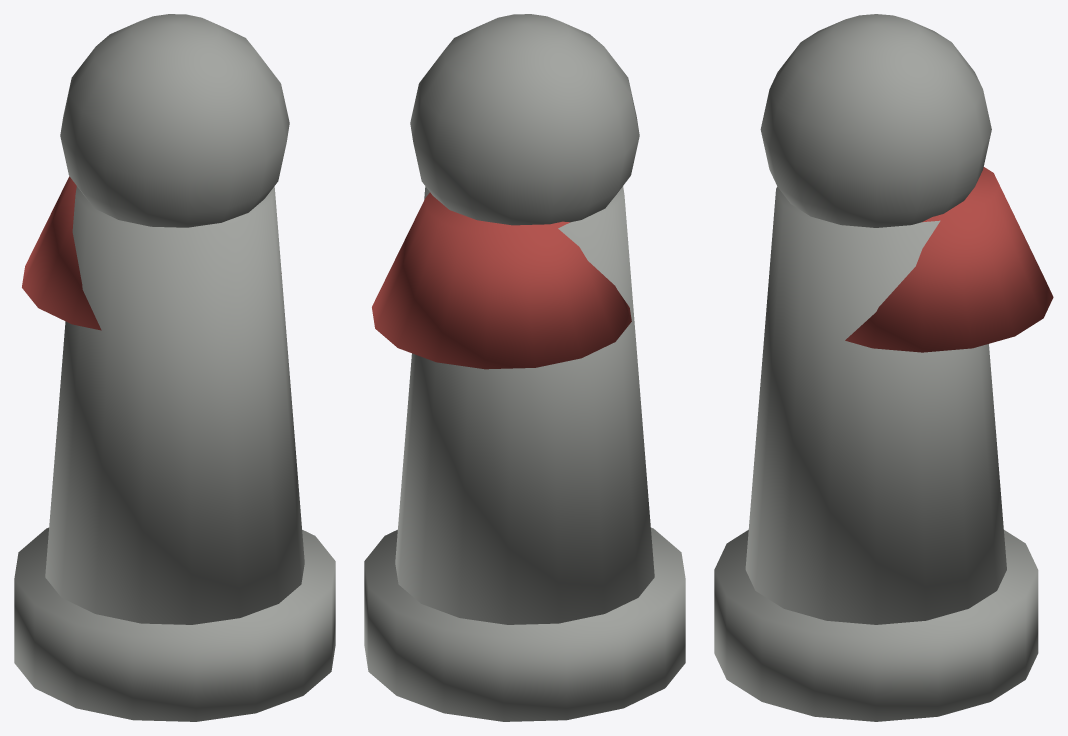
File: prop_jizo.glb
3 renders of one model, left to right at view 1: azimuth 30°, elevation 25°; view 2: azimuth 150°, elevation 25°; view 3: azimuth 270°, elevation 25°, orthographic.
Visible parts, largest first — view 1: jizo; view 2: jizo; view 3: jizo.
Boxes of the visible parts, x1=… form: jizo: x1=14, y1=14, x2=335, y2=721; jizo: x1=364, y1=14, x2=685, y2=721; jizo: x1=714, y1=14, x2=1053, y2=721.
Bounding box in the file's own units: 0.84 × 1.8 × 0.88.
